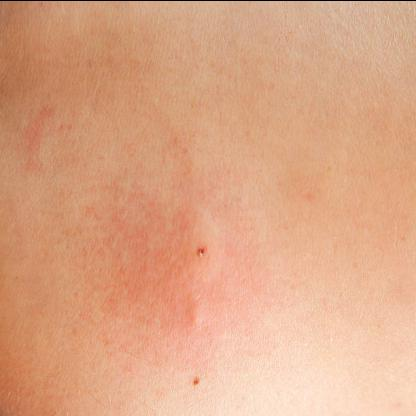Wasp: (153, 183, 238, 297)
